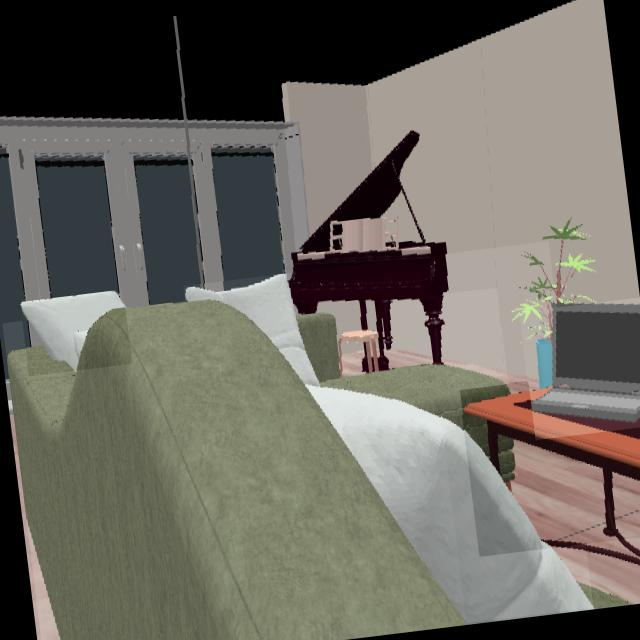laptop: (532, 307, 640, 429)
pillow: (186, 274, 592, 624), (20, 291, 125, 370)
sofa: (6, 300, 466, 640), (295, 312, 509, 417)
table: (462, 384, 640, 539)
